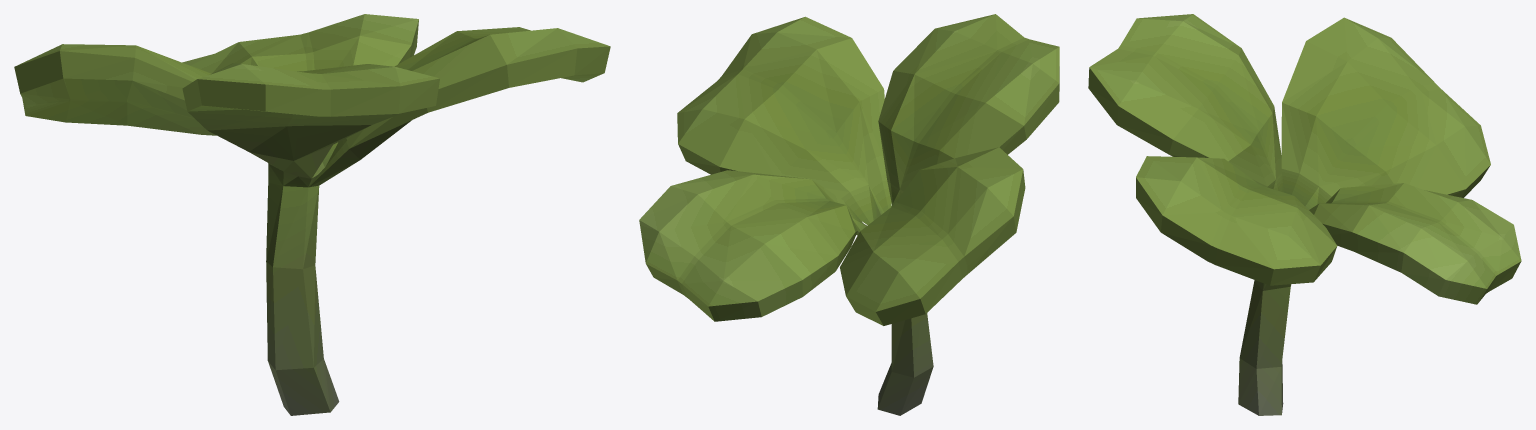
Rendered from CharSkyKid_Hat_Sprout.glb.
3 views of the same model, side by side, from view 1: azimuth 30°, elevation 25°; view 2: azimuth 150°, elevation 25°; view 3: azimuth 270°, elevation 25° (orthographic). The views are drawn at different scales.
Visible parts, largest first — view 1: CharSkyKid_Hat_Sprout; view 2: CharSkyKid_Hat_Sprout; view 3: CharSkyKid_Hat_Sprout.
Part boxes in pixels (<box>): CharSkyKid_Hat_Sprout: <box>14,14,610,415</box>; CharSkyKid_Hat_Sprout: <box>639,14,1059,415</box>; CharSkyKid_Hat_Sprout: <box>1088,14,1521,415</box>.
Bounding box in the file's own units: 1.02 × 0.8366 × 0.9588.
1 material, 1 textured.
